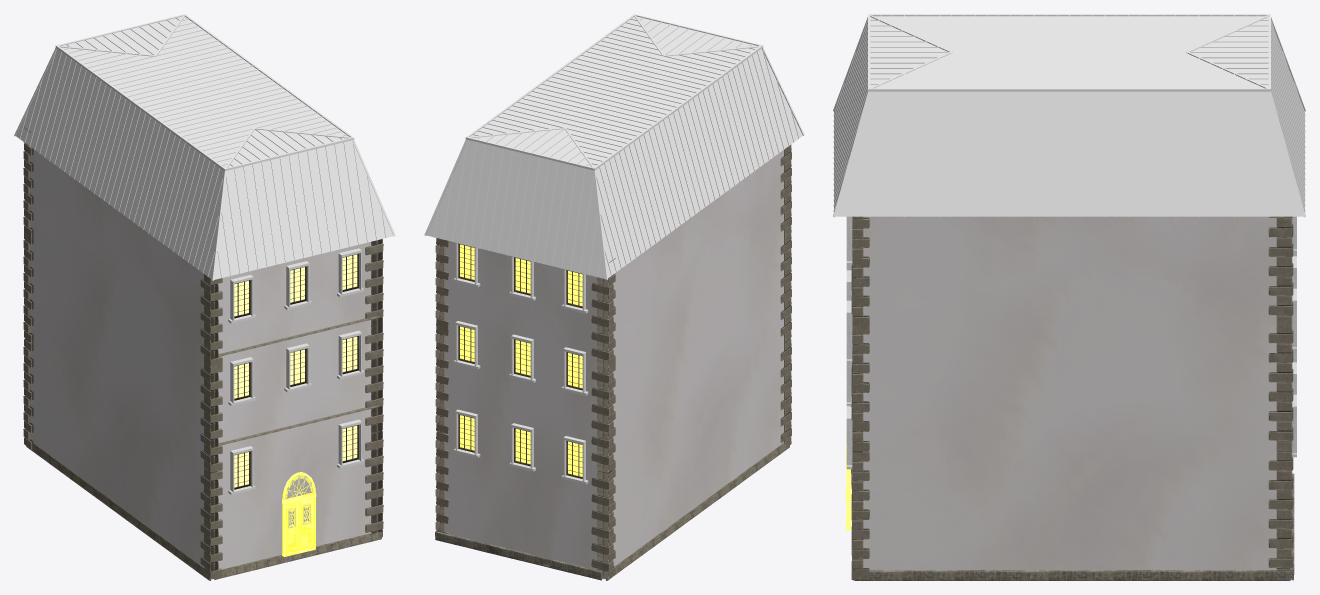
The model's file is Buiding 01.fbx.
3 views of the same model, side by side, from view 1: azimuth 30°, elevation 25°; view 2: azimuth 150°, elevation 25°; view 3: azimuth 270°, elevation 25° (orthographic). The views are drawn at different scales.
Visible parts, largest first — view 1: LOD 0; view 2: LOD 0; view 3: LOD 0.
Part boxes in pixels (x1,y1,x2,y2): LOD 0: [14, 14, 395, 580]; LOD 0: [424, 14, 804, 580]; LOD 0: [833, 14, 1305, 580].
Size of what is drawn, in the model's own units: 242 by 508 by 454.
